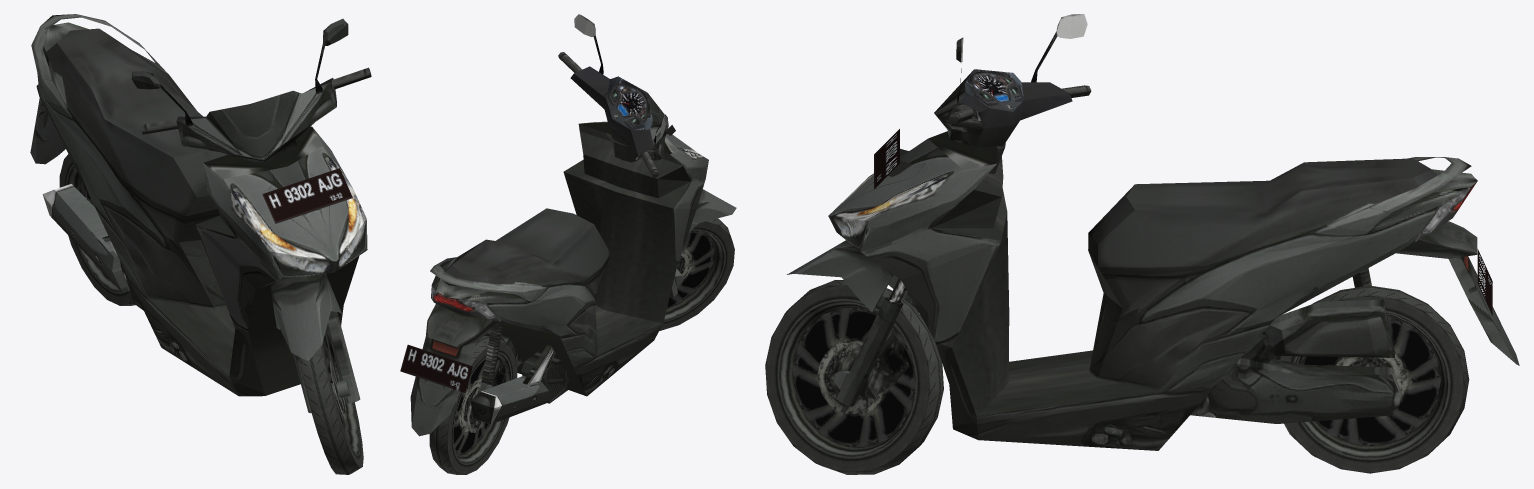
Rendered from vario.fbx.
3 renders of one model, left to right at view 1: azimuth 30°, elevation 25°; view 2: azimuth 150°, elevation 25°; view 3: azimuth 270°, elevation 25°, orthographic. The views are drawn at different scales.
Visible parts, largest first — view 1: body.vario, stang_vario, wheel.vario, wheel.vario.001; view 2: body.vario, stang_vario, wheel.vario.001, wheel.vario; view 3: body.vario, wheel.vario, wheel.vario.001, stang_vario.
Boxes of the visible parts, bbox=[...] form: body.vario: bbox=[30, 14, 367, 396]; stang_vario: bbox=[131, 18, 371, 413]; wheel.vario: bbox=[298, 327, 363, 474]; wheel.vario.001: bbox=[59, 154, 135, 305]; body.vario: bbox=[400, 121, 708, 436]; stang_vario: bbox=[558, 14, 736, 297]; wheel.vario.001: bbox=[429, 336, 517, 474]; wheel.vario: bbox=[659, 218, 734, 330]; body.vario: bbox=[828, 129, 1519, 450]; wheel.vario: bbox=[765, 280, 943, 474]; wheel.vario.001: bbox=[1274, 285, 1469, 473]; stang_vario: bbox=[787, 14, 1091, 406].
Bounding box in the file's own units: 67.43 × 140 × 209.
Materials: 1 (1 with a texture image).
